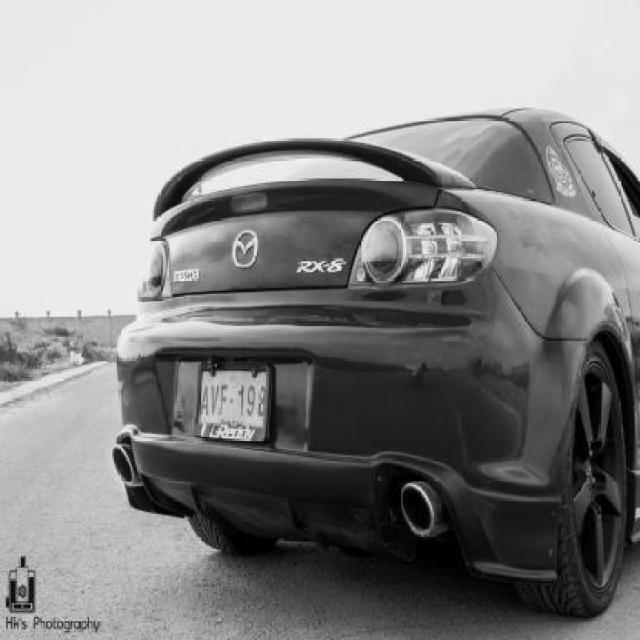car: (112, 100, 640, 620)
license-plate: (191, 358, 275, 438)
